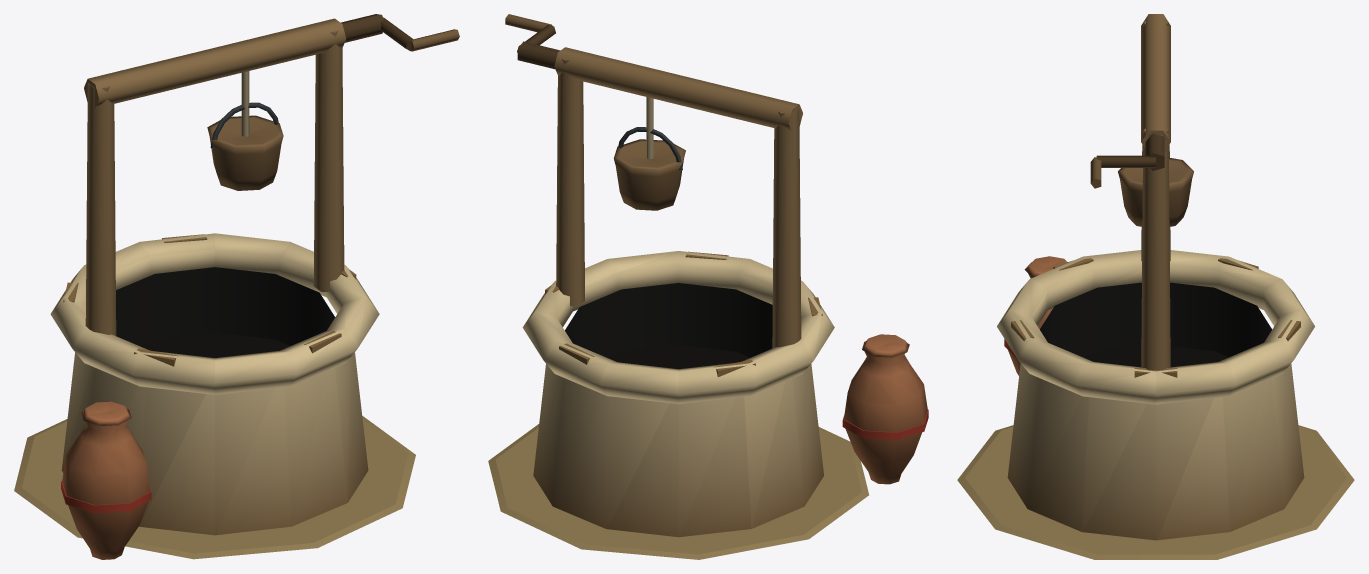
Rendered from stone-well.glb.
The picture shows the model from 3 angles, left to right: view 1: azimuth 30°, elevation 25°; view 2: azimuth 150°, elevation 25°; view 3: azimuth 270°, elevation 25°; orthographic projection. The views are drawn at different scales.
Parts seen in each view (by area): view 1: stone_well; view 2: stone_well; view 3: stone_well.
Part boxes in pixels (<box>): stone_well: <box>14,14,459,559</box>; stone_well: <box>488,14,928,559</box>; stone_well: <box>957,14,1354,559</box>.
Bounding box in the file's own units: 2.18 × 2.17 × 1.87.
